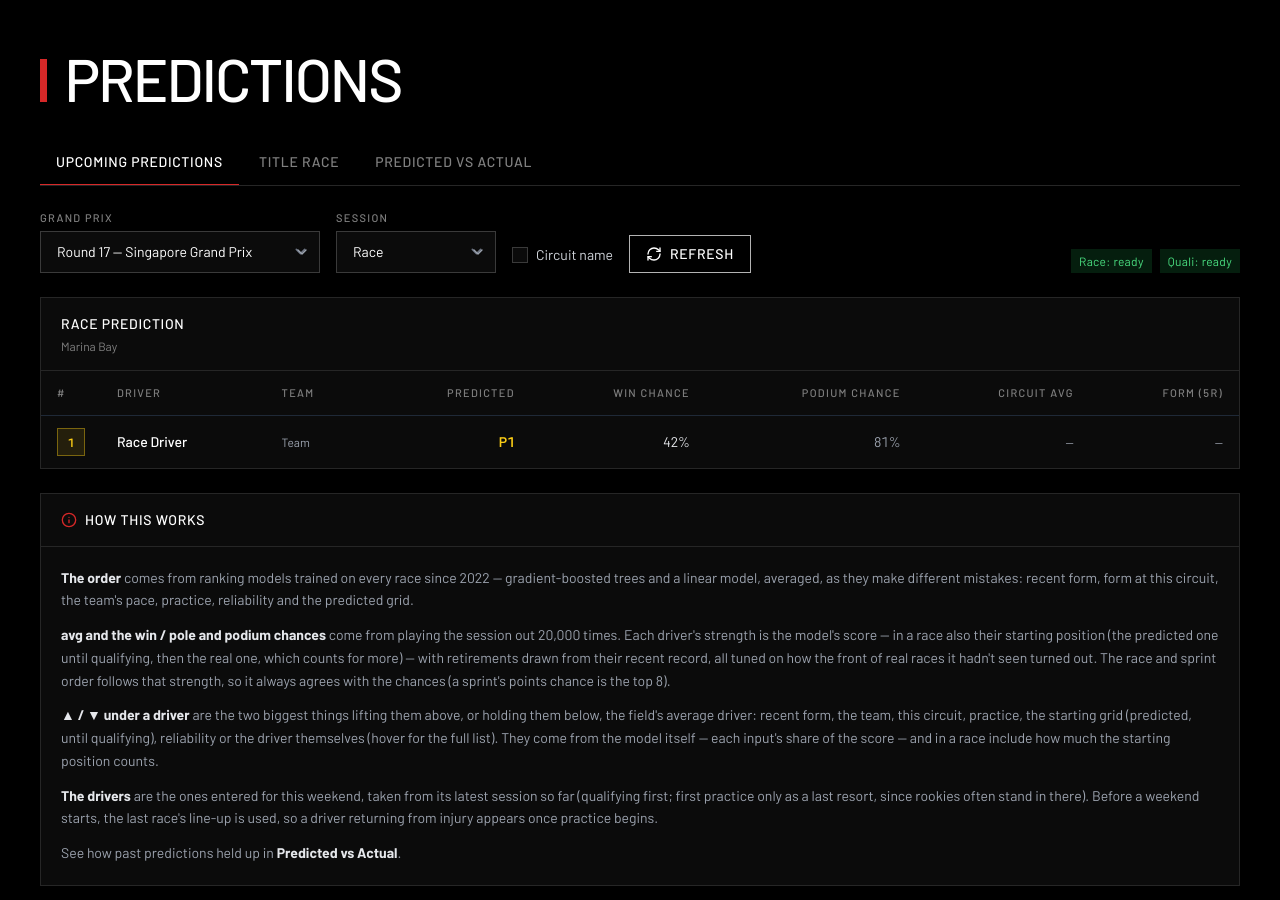
the chances have a column each: pole and top 3 in qualifying, win and podium in the race
The image size is (1280, 900).
Expected: the column heading "Win chance" is shown, [531,370,706,415]
Expected: the column heading "Podium chance" is shown, [706,370,917,415]
Select "Qualifying" in the dropdown labelled "Session": (416, 252) [336,230,496,272]
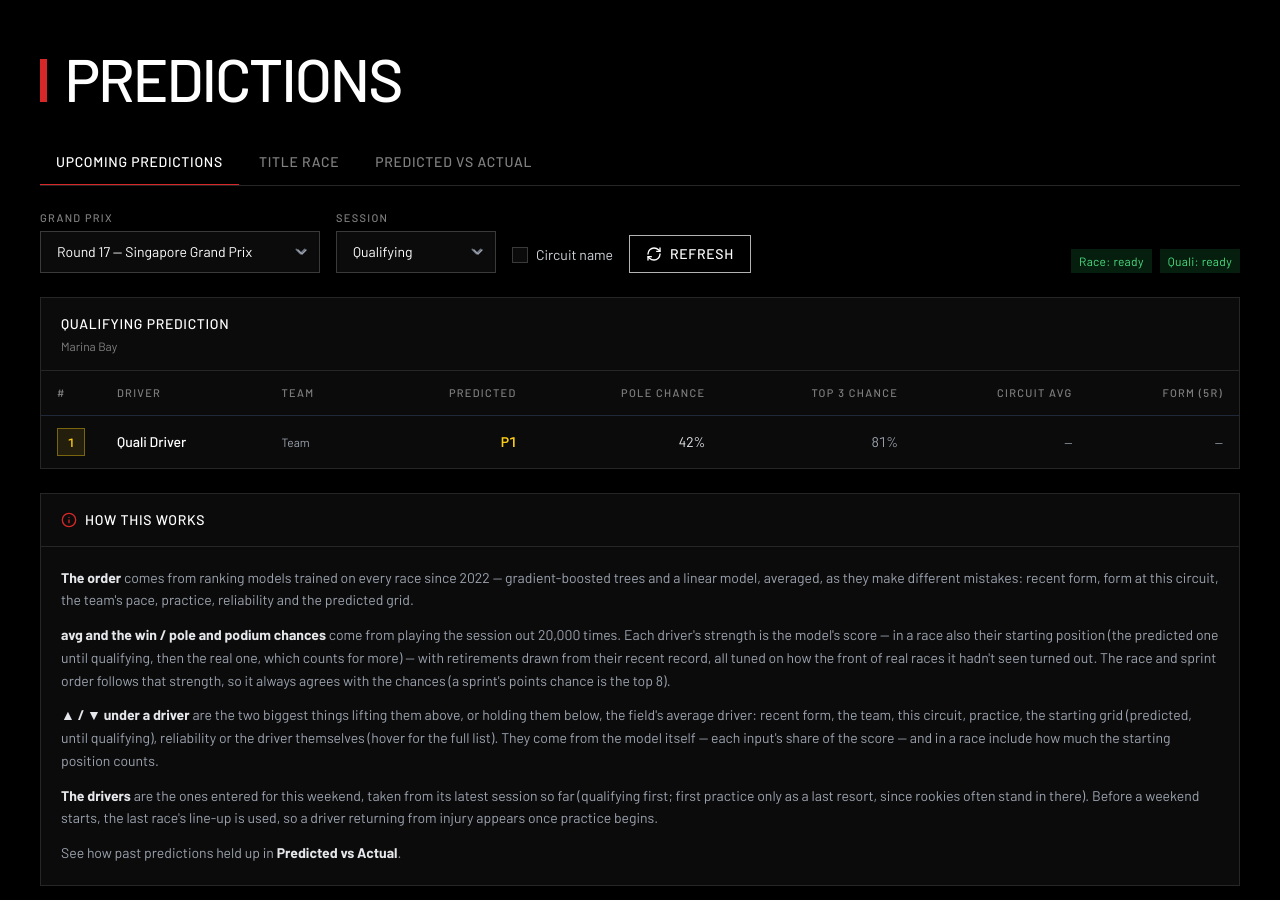
Expected: the column heading "Pole chance" is shown, [533,370,722,415]
Expected: the column heading "Top 3 chance" is shown, [722,370,914,415]
